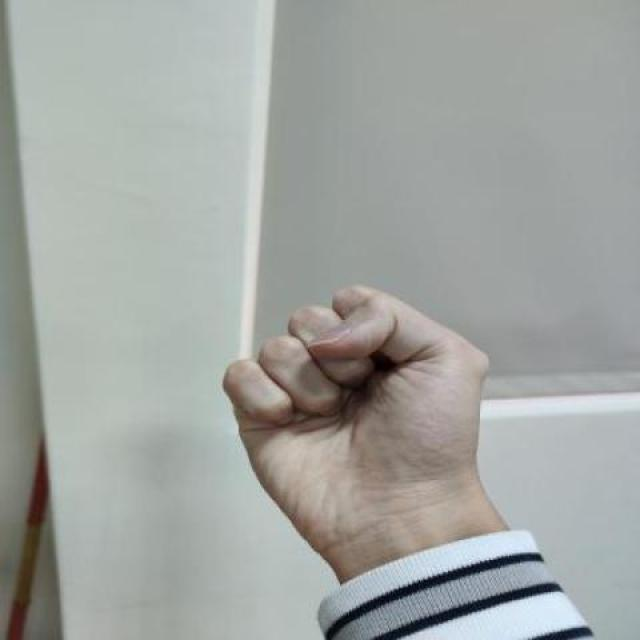Closed Hand: (169, 281, 543, 551)
